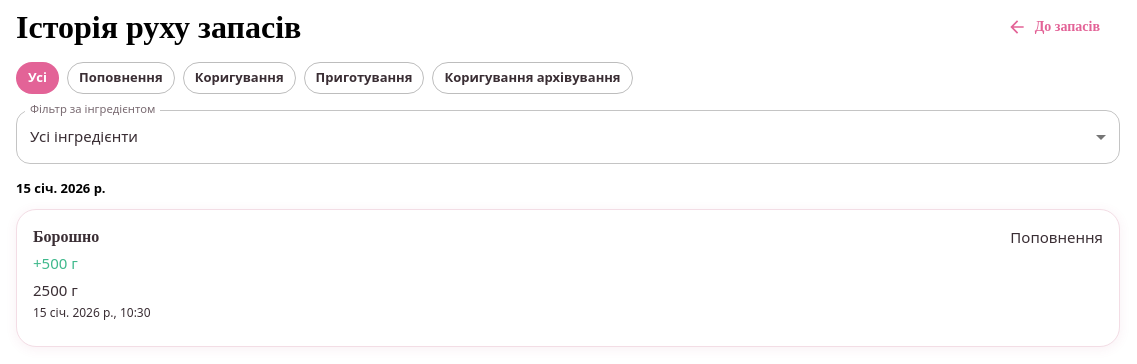
Test: InventoryHistoryPage movement type filter › shows the empty state when a type filter matches no movements
The image size is (1137, 364).
Click the button "Коригування": (239, 78) [183,62,296,94]
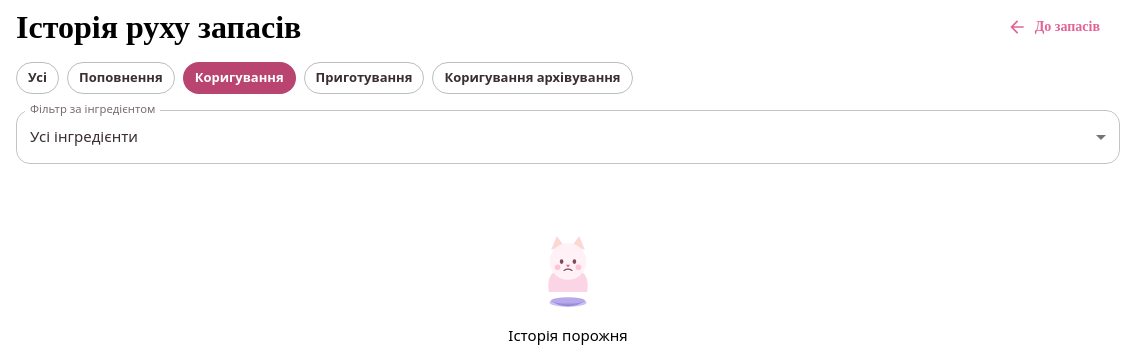
Expected: the text "Історія порожня" is shown, [508,324,628,347]
